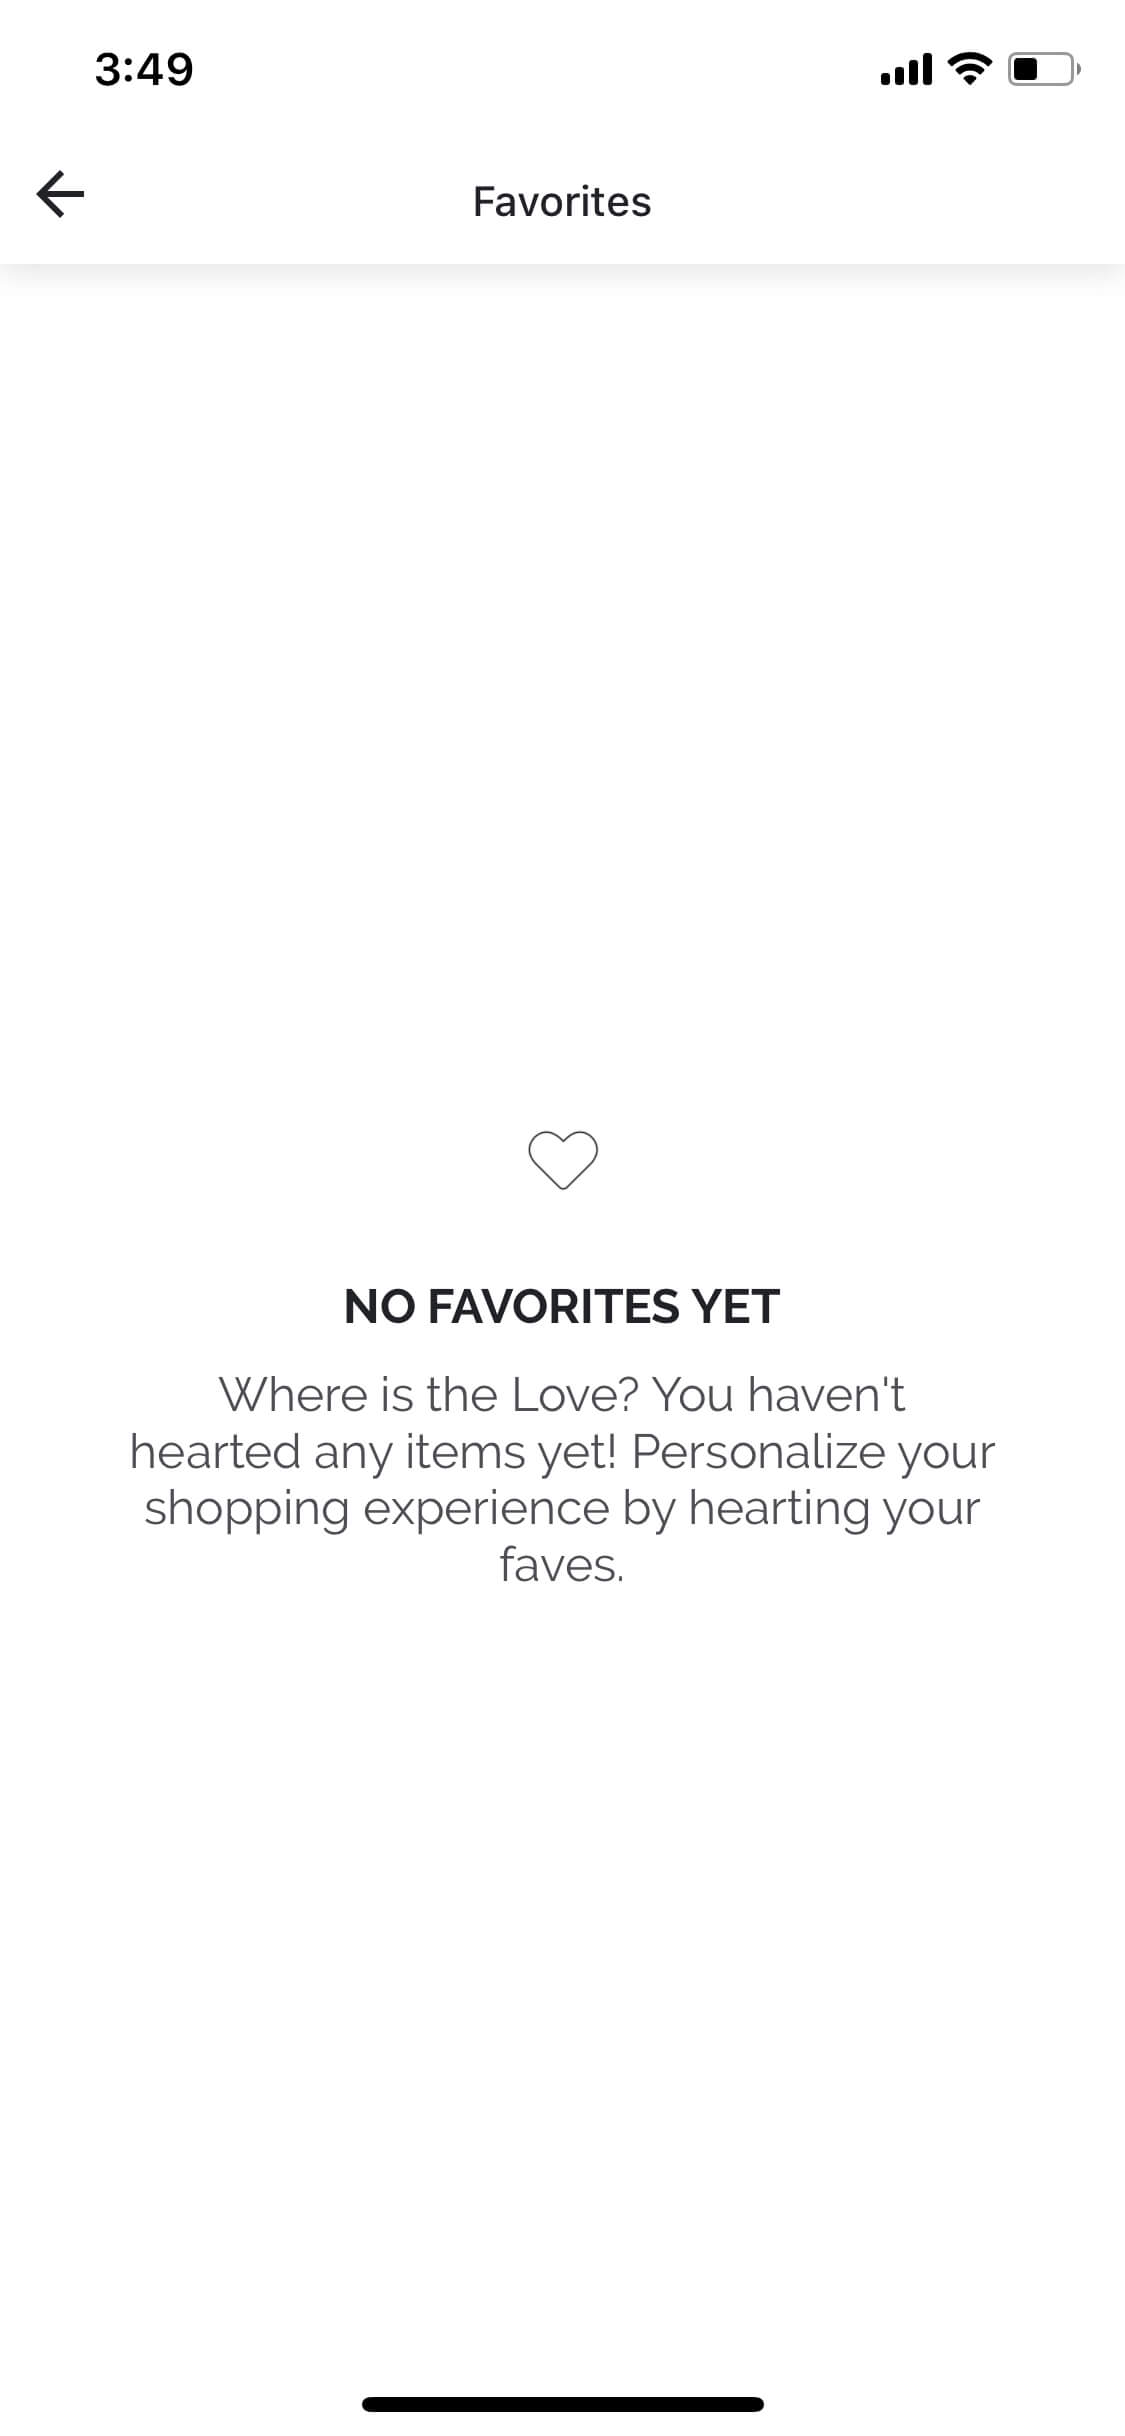Buttons: (19, 132, 134, 244)
